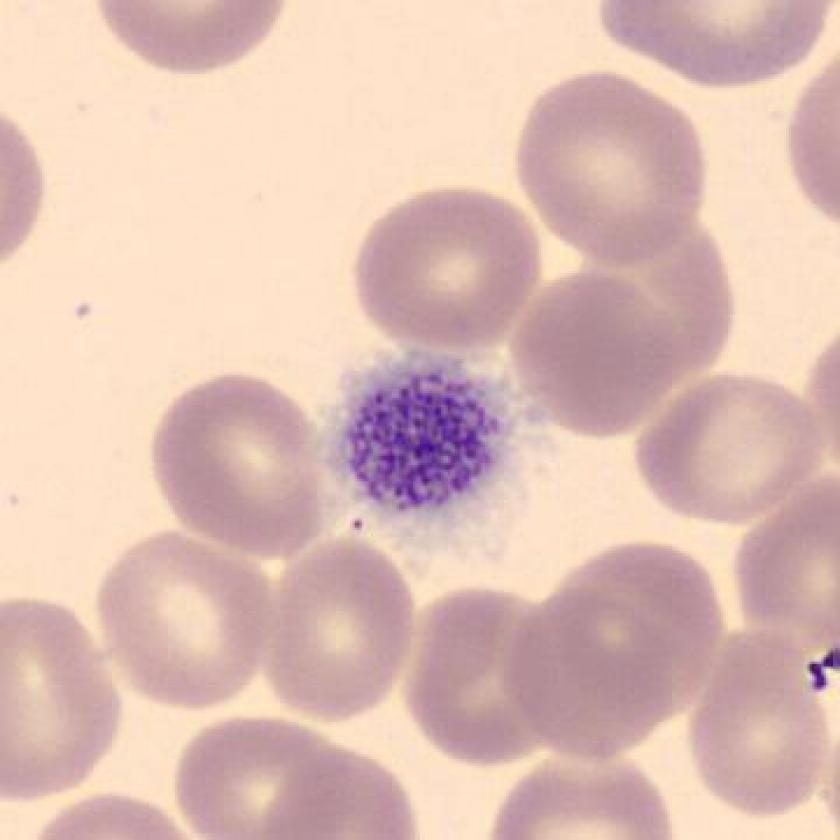platelets: (304, 337, 547, 554)
